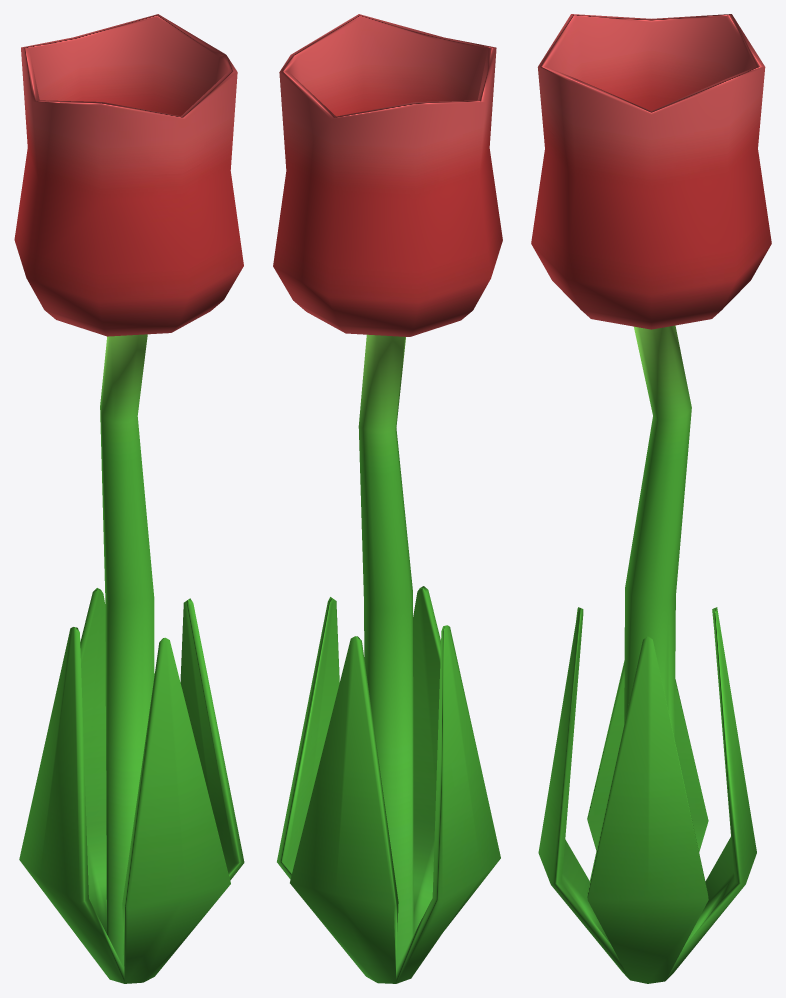
Rendered from Flower2_Var3.glb.
3 renders of one model, left to right at view 1: azimuth 30°, elevation 25°; view 2: azimuth 150°, elevation 25°; view 3: azimuth 270°, elevation 25°, orthographic.
Parts seen in each view (by area): view 1: Flower_Cylinder; view 2: Flower_Cylinder; view 3: Flower_Cylinder.
Part boxes in pixels (left/top/right/bottom): Flower_Cylinder: left=14, top=14, right=244, bottom=983; Flower_Cylinder: left=273, top=14, right=502, bottom=983; Flower_Cylinder: left=531, top=14, right=771, bottom=983.
Size of the model in its own units: 0.3425 by 1.45 by 0.3425.
1 material, 1 textured.
